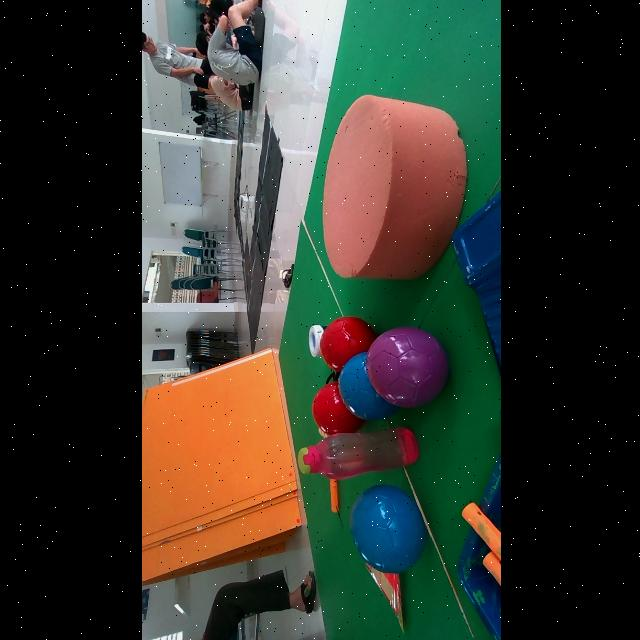B: (349, 486, 425, 573), (337, 353, 397, 421)
P: (364, 326, 447, 408)
R: (318, 317, 375, 372), (312, 381, 362, 435)
